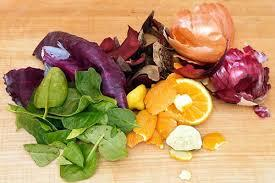Organic: (1, 1, 275, 182)
